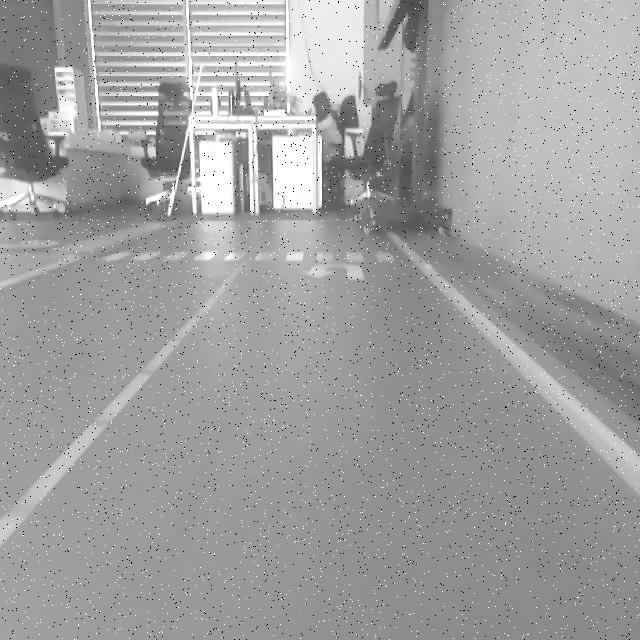left_lane: (0, 263, 245, 550)
right_lane: (389, 232, 640, 499)
